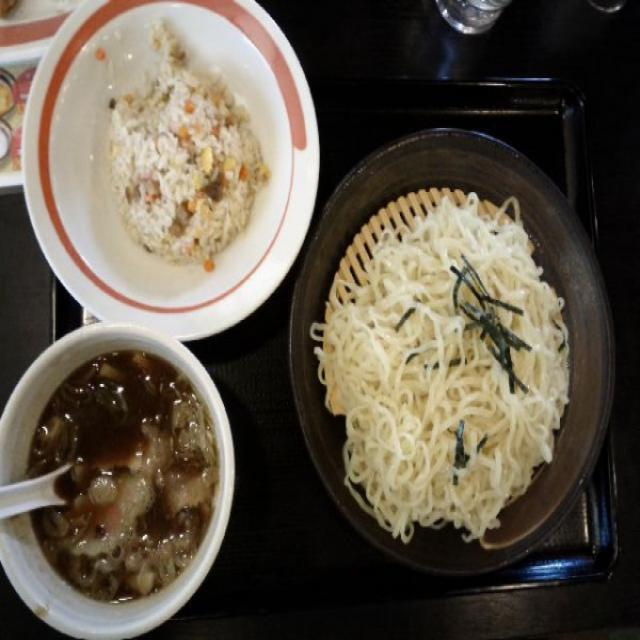Noodle: (313, 185, 582, 548)
